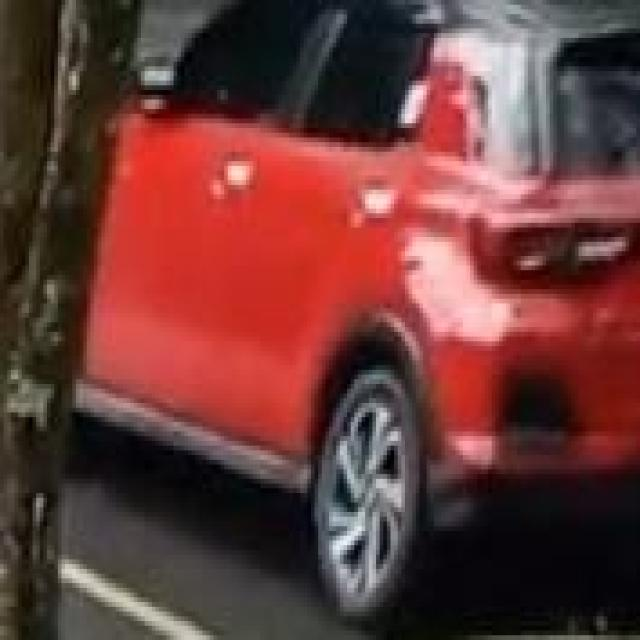Car: (66, 14, 635, 566)
